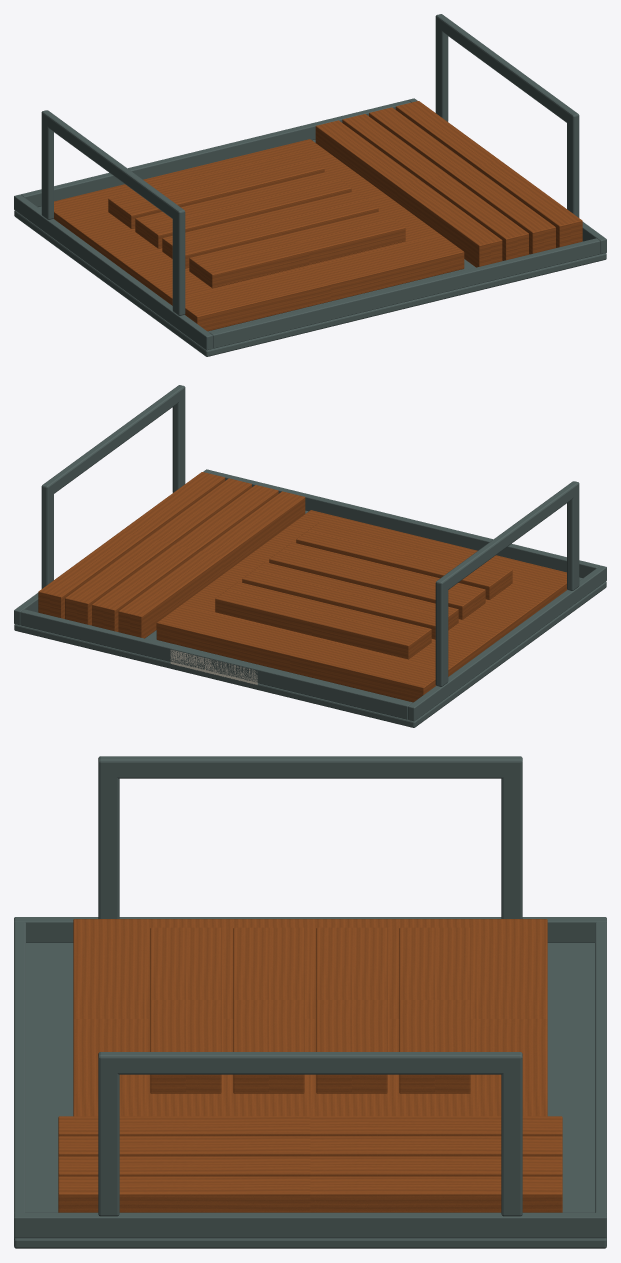
File: Hocker01_Kit.fbx
3 views of the same model, one above another, from view 1: azimuth 30°, elevation 25°; view 2: azimuth 150°, elevation 25°; view 3: azimuth 270°, elevation 25° (orthographic). The views are drawn at different scales.
Parts seen in each view (by area): view 1: Seat__WoodRaw.010, Rail_4__WoodRaw.004, Leg_1__WoodRaw.010, CarrierRimX__Carrier.008, Rail_2__WoodRaw.004, Rail_3__WoodRaw.004, Rail_1__WoodRaw.004, CarrierFloor__Carrier.004, Leg_3__WoodRaw.009, Leg_4__WoodRaw.009, Leg_2__WoodRaw.009, CarrierRimX__Carrier.009 (+7 smaller); view 2: Seat__WoodRaw.010, Rail_1__WoodRaw.004, Leg_1__WoodRaw.010, CarrierRimX__Carrier.009, Rail_3__WoodRaw.004, Rail_2__WoodRaw.004, Rail_4__WoodRaw.004, Leg_3__WoodRaw.009, Leg_4__WoodRaw.009, Leg_2__WoodRaw.009, CarrierFloor__Carrier.004, CarrierRimX__Carrier.008 (+8 smaller); view 3: Seat__WoodRaw.010, CarrierFloor__Carrier.004, Leg_4__WoodRaw.009, CarrierRimY__Carrier.009, Rail_1__WoodRaw.004, Rail_2__WoodRaw.004, Rail_3__WoodRaw.004, Rail_4__WoodRaw.004, Leg_3__WoodRaw.009, Leg_1__WoodRaw.010, Leg_2__WoodRaw.009, HandleTop__Carrier.008 (+8 smaller).
Boxes of the visible parts, bbox=[...] form: Seat__WoodRaw.010: bbox=[53, 139, 464, 331]; Rail_4__WoodRaw.004: bbox=[189, 211, 405, 288]; Leg_1__WoodRaw.010: bbox=[315, 120, 502, 267]; CarrierRimX__Carrier.008: bbox=[210, 238, 600, 348]; Rail_2__WoodRaw.004: bbox=[135, 171, 351, 248]; Rail_3__WoodRaw.004: bbox=[162, 191, 378, 268]; Rail_1__WoodRaw.004: bbox=[108, 151, 324, 228]; CarrierFloor__Carrier.004: bbox=[14, 139, 606, 356]; Leg_3__WoodRaw.009: bbox=[369, 107, 555, 254]; Leg_4__WoodRaw.009: bbox=[395, 101, 582, 247]; Leg_2__WoodRaw.009: bbox=[342, 114, 528, 260]; CarrierRimX__Carrier.009: bbox=[20, 100, 410, 206]; Seat__WoodRaw.010: bbox=[156, 510, 567, 702]; Rail_1__WoodRaw.004: bbox=[215, 582, 431, 659]; Leg_1__WoodRaw.010: bbox=[118, 491, 305, 638]; CarrierRimX__Carrier.009: bbox=[20, 609, 410, 719]; Rail_3__WoodRaw.004: bbox=[269, 542, 485, 619]; Rail_2__WoodRaw.004: bbox=[242, 562, 458, 639]; Rail_4__WoodRaw.004: bbox=[296, 522, 512, 599]; Leg_3__WoodRaw.009: bbox=[65, 478, 251, 625]; Leg_4__WoodRaw.009: bbox=[38, 472, 225, 618]; Leg_2__WoodRaw.009: bbox=[92, 485, 278, 631]; CarrierFloor__Carrier.004: bbox=[14, 510, 606, 727]; CarrierRimX__Carrier.008: bbox=[210, 471, 600, 577]; Seat__WoodRaw.010: bbox=[73, 919, 547, 1116]; CarrierFloor__Carrier.004: bbox=[14, 942, 606, 1248]; Leg_4__WoodRaw.009: bbox=[58, 1176, 562, 1212]; CarrierRimY__Carrier.009: bbox=[14, 1212, 606, 1238]; Rail_1__WoodRaw.004: bbox=[399, 927, 470, 1093]; Rail_2__WoodRaw.004: bbox=[316, 927, 387, 1093]; Rail_3__WoodRaw.004: bbox=[233, 927, 304, 1093]; Rail_4__WoodRaw.004: bbox=[150, 927, 221, 1093]; Leg_3__WoodRaw.009: bbox=[58, 1156, 562, 1176]; Leg_1__WoodRaw.010: bbox=[58, 1116, 562, 1136]; Leg_2__WoodRaw.009: bbox=[58, 1136, 562, 1156]; HandleTop__Carrier.008: bbox=[105, 756, 515, 778].
Bounding box in the file's own units: 60 × 18 × 50.
Materials: 4 (1 with a texture image).
